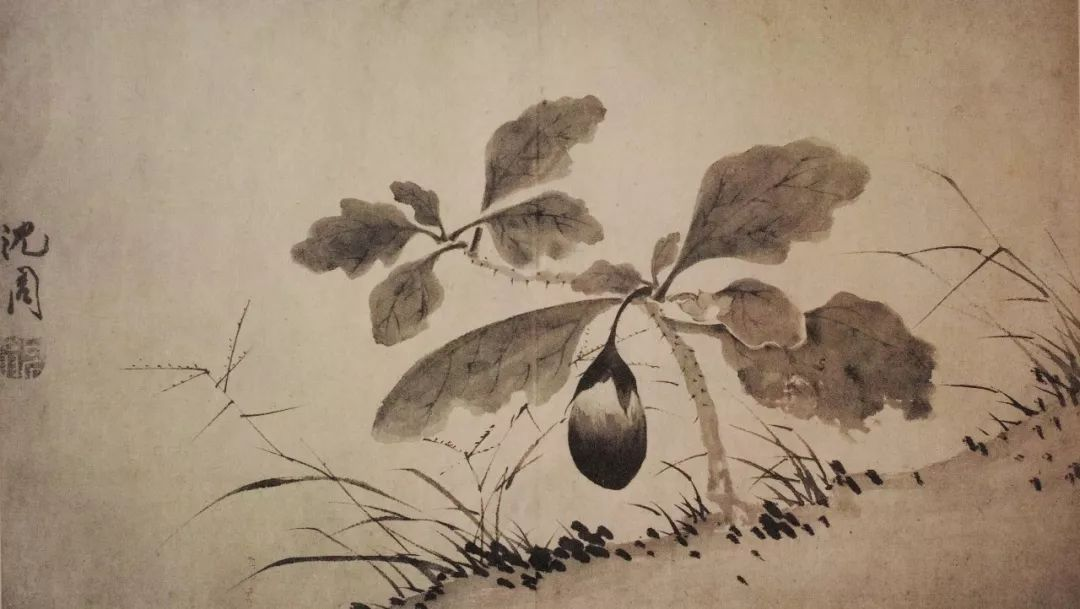flower: (304, 131, 608, 306), (395, 305, 647, 479), (691, 297, 921, 416), (640, 293, 746, 520), (695, 151, 867, 261)
grass: (164, 322, 460, 598), (921, 181, 1080, 436), (756, 421, 934, 502), (445, 534, 636, 568), (648, 464, 715, 556)
